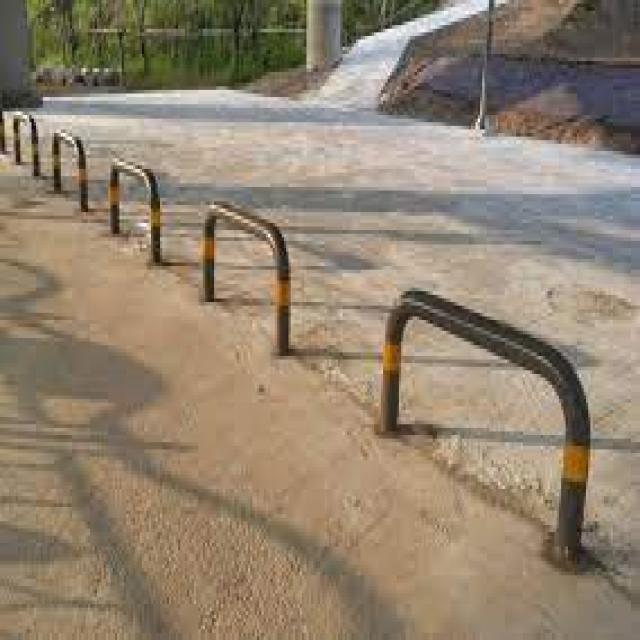bollard: (370, 281, 600, 570), (197, 192, 293, 363), (107, 149, 164, 271), (48, 121, 91, 217), (10, 106, 41, 184)
